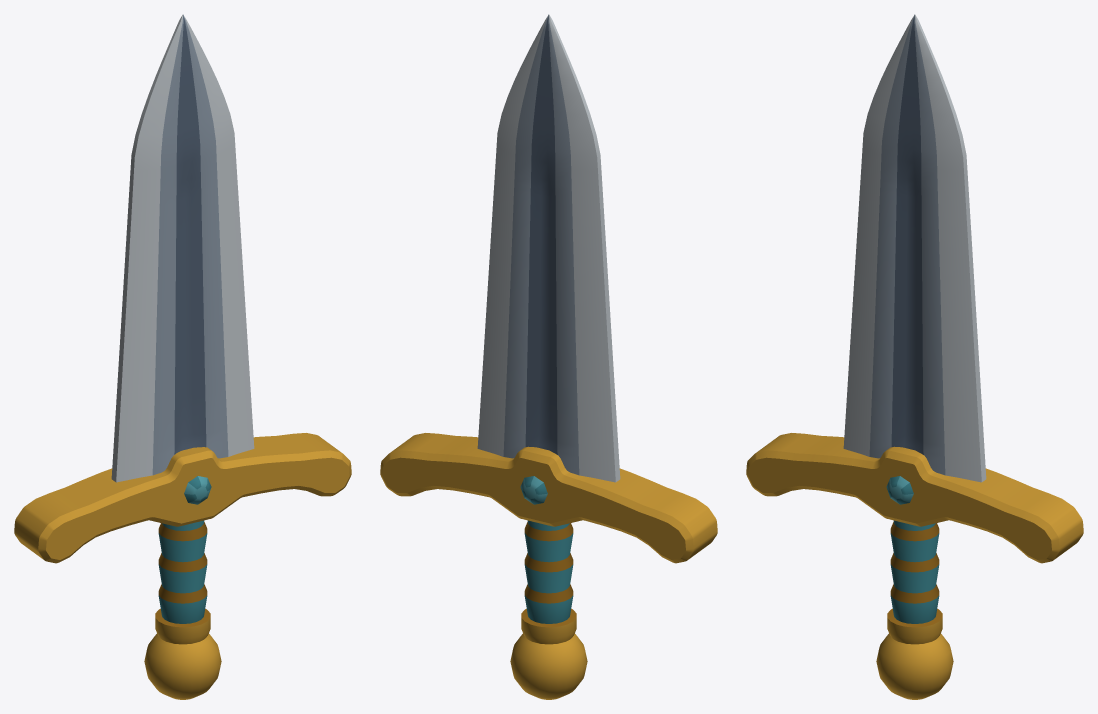
The model's file is Broadsword_13.glb.
3 views of the same model, side by side, from view 1: azimuth 30°, elevation 25°; view 2: azimuth 150°, elevation 25°; view 3: azimuth 330°, elevation 25° (orthographic).
Visible parts, largest first — view 1: Broadsword_13; view 2: Broadsword_13; view 3: Broadsword_13.
Boxes of the visible parts, <box> form: Broadsword_13: <box>14,14,351,699</box>; Broadsword_13: <box>380,14,717,699</box>; Broadsword_13: <box>746,14,1083,699</box>.
Bounding box in the file's own units: 2.88 × 5.99 × 0.614.
